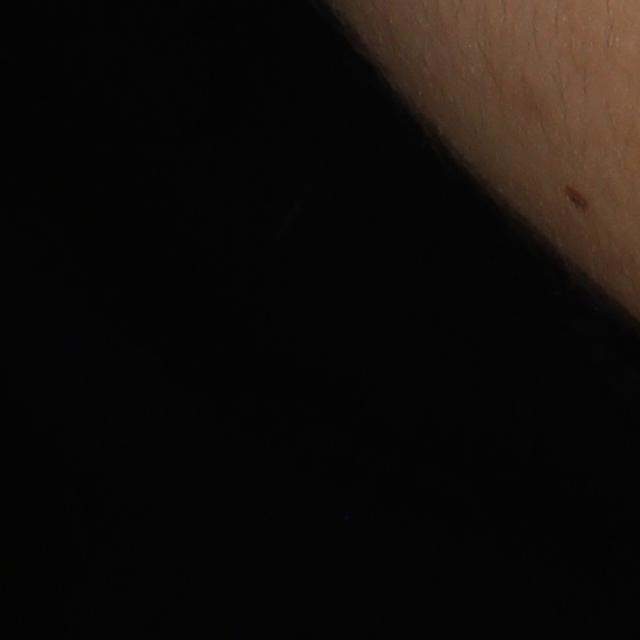nevus: (566, 180, 595, 211)
